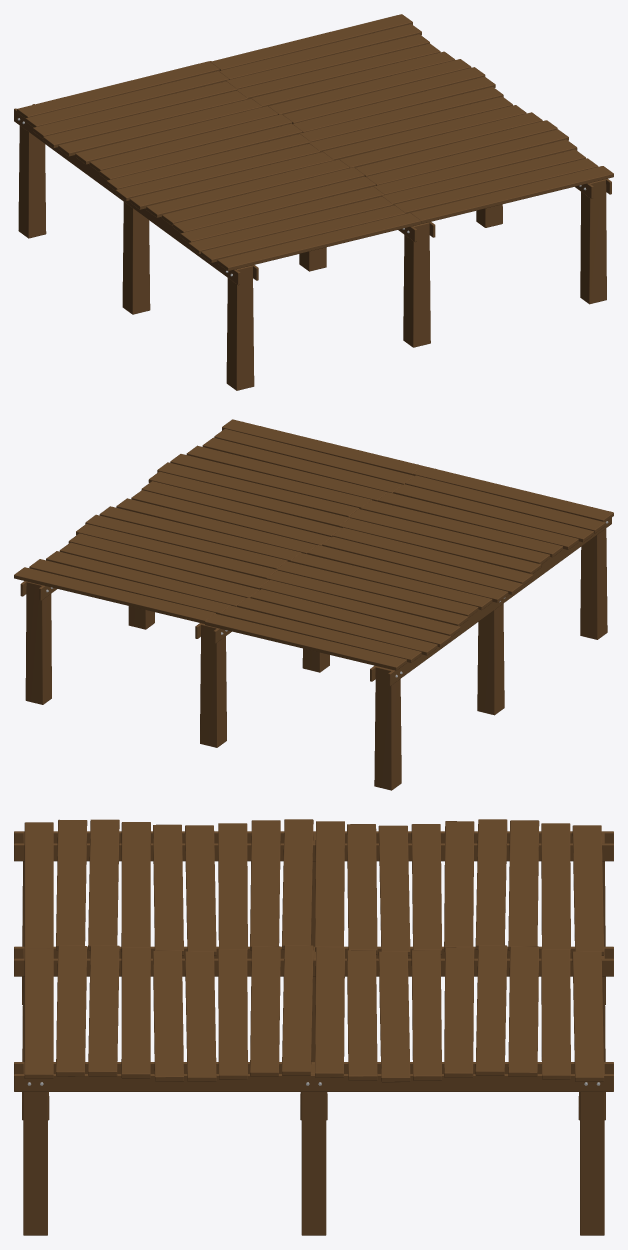
Rendered from Wooden Platforms.glb.
3 views of the same model, one above another, from view 1: azimuth 30°, elevation 25°; view 2: azimuth 150°, elevation 25°; view 3: azimuth 270°, elevation 25° (orthographic). The views are drawn at different scales.
Visible parts, largest first — view 1: Cube (×43); view 2: Cube (×44); view 3: Cube (×45).
Boxes of the visible parts, x1,y1,x2,y2 form: Cube (×43): (14,14,613,390); Cube (×44): (14,419,613,790); Cube (×45): (14,819,613,1235).
Size of the model in its own units: 4.94 by 1.49 by 4.85.
